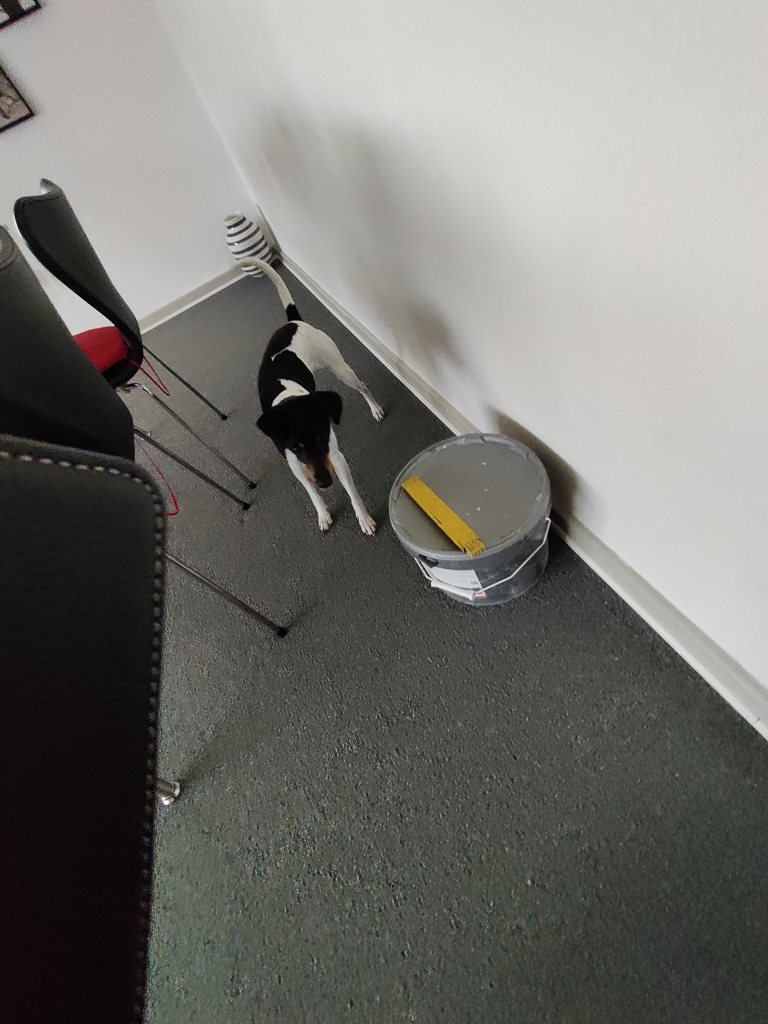Dog: (216, 247, 399, 546)
